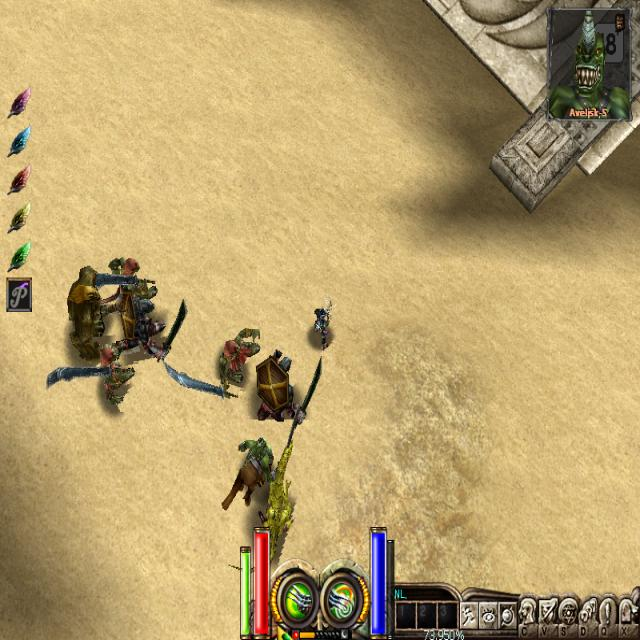hero: (307, 288, 344, 366)
monster: (124, 292, 184, 389), (205, 301, 253, 410), (54, 272, 112, 356), (266, 446, 309, 553), (220, 426, 274, 511), (257, 344, 309, 431), (107, 254, 149, 330), (96, 347, 118, 409)
